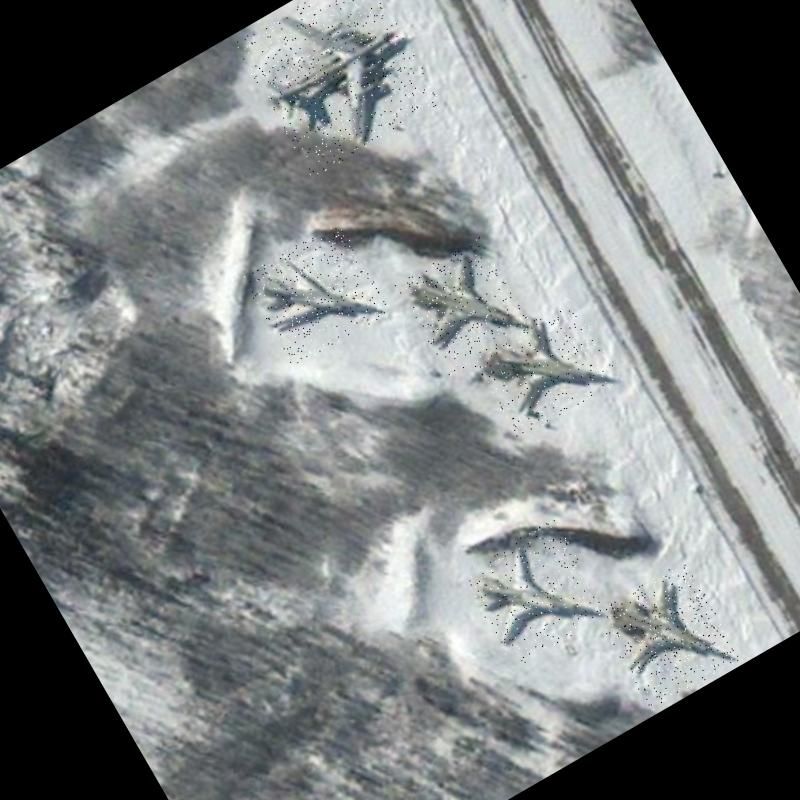A12: (466, 290, 624, 439), (458, 518, 610, 670), (594, 560, 742, 711), (242, 220, 392, 368), (395, 236, 534, 377)
A17: (233, 0, 443, 178)
